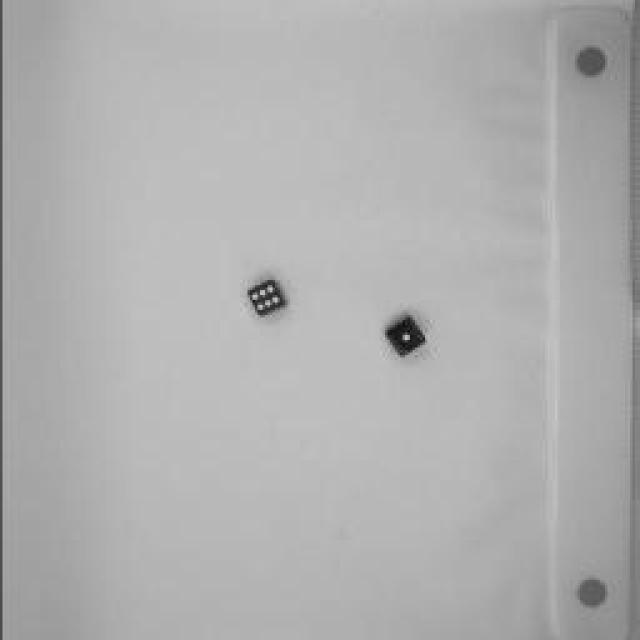dice_1: (380, 309, 438, 366)
dice_6: (241, 274, 294, 326)
